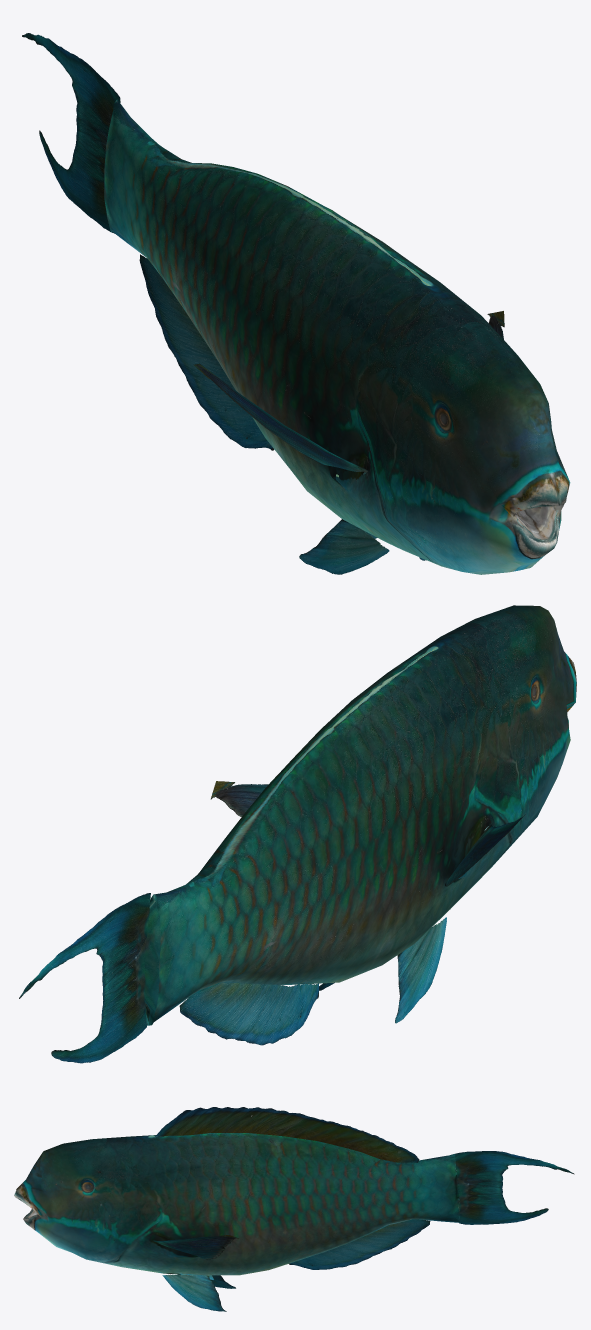
File: SteepheadParrotfish0.fbx
The picture shows the model from 3 angles, top to bottom: view 1: azimuth 30°, elevation 25°; view 2: azimuth 150°, elevation 25°; view 3: azimuth 270°, elevation 25°; orthographic projection. The views are drawn at different scales.
Parts seen in each view (by area): view 1: Steephead_Parrotfish; view 2: Steephead_Parrotfish; view 3: Steephead_Parrotfish.
Boxes of the visible parts, x1=… form: Steephead_Parrotfish: x1=22, y1=33, x2=570, y2=574; Steephead_Parrotfish: x1=19, y1=605, x2=576, y2=1063; Steephead_Parrotfish: x1=14, y1=1107, x2=574, y2=1311.
Bounding box in the file's own units: 1.15 × 1.4 × 3.54.
1 material, 1 textured.
